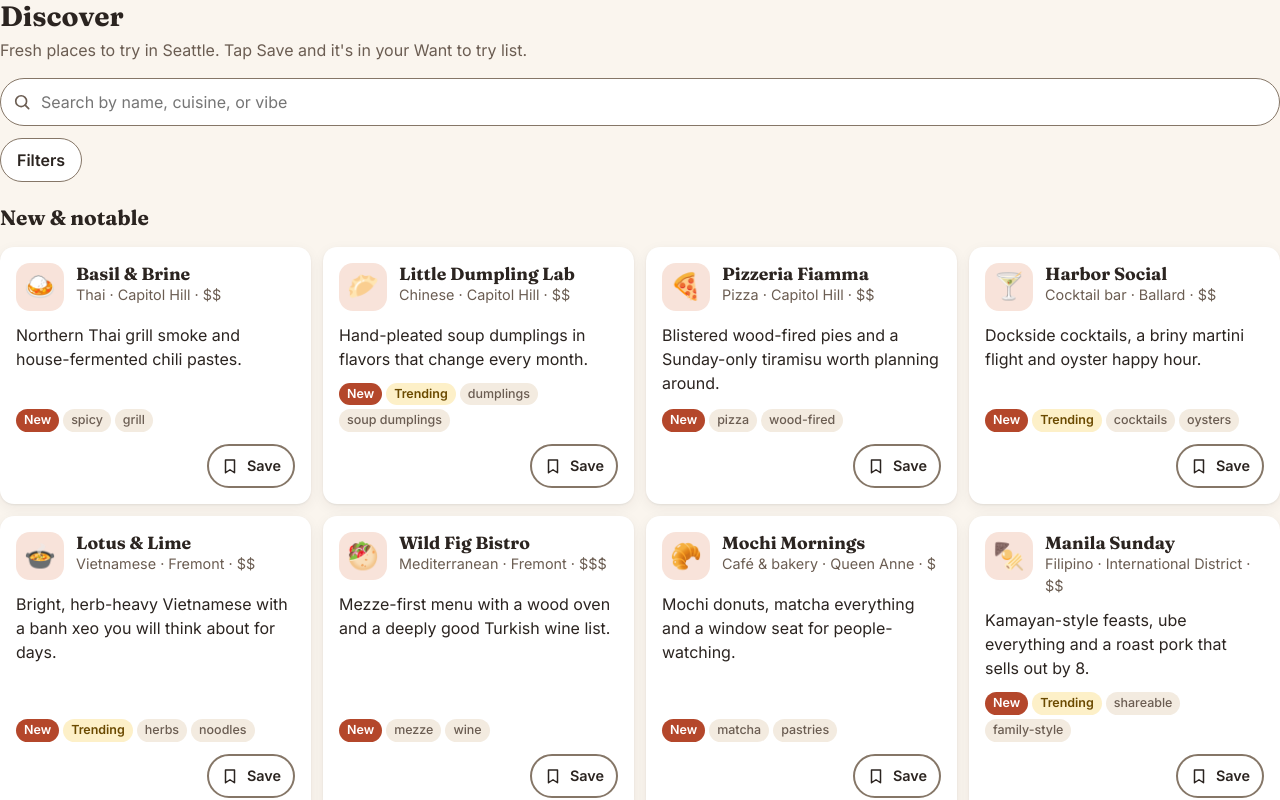
Test case: DiscoverPage › saves a place to Want to try with one tap and flips the card to Saved
What coordinates should you click on to do the following:
click the button with aria-label "Save Basil & Brine to Want to try"
I would click on:
 (251, 466)
Its box is [207,444,295,488].
(page scrolled)
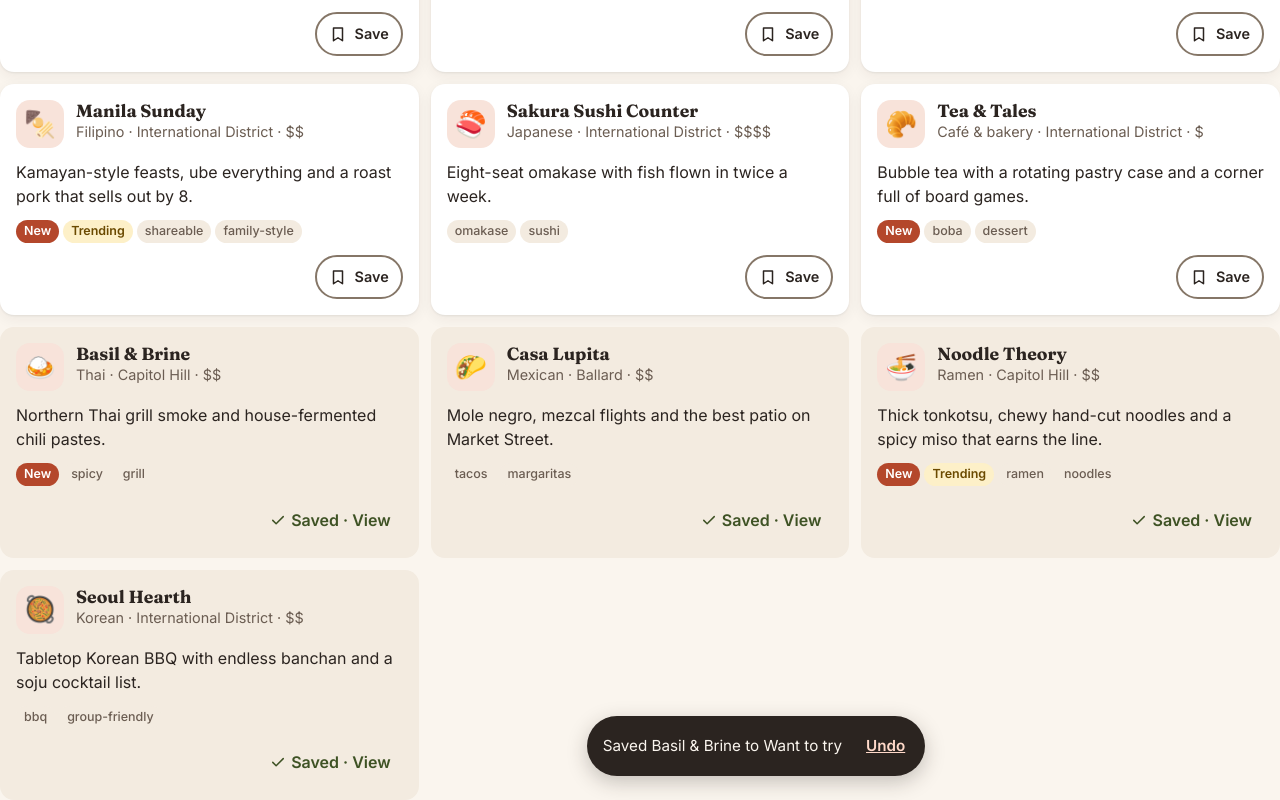
Check: the text "Saved Basil & Brine to Want to try" is shown, box [603,735,842,757]
Check: the 1st link "Saved · View" is shown, box [269,510,391,530]
